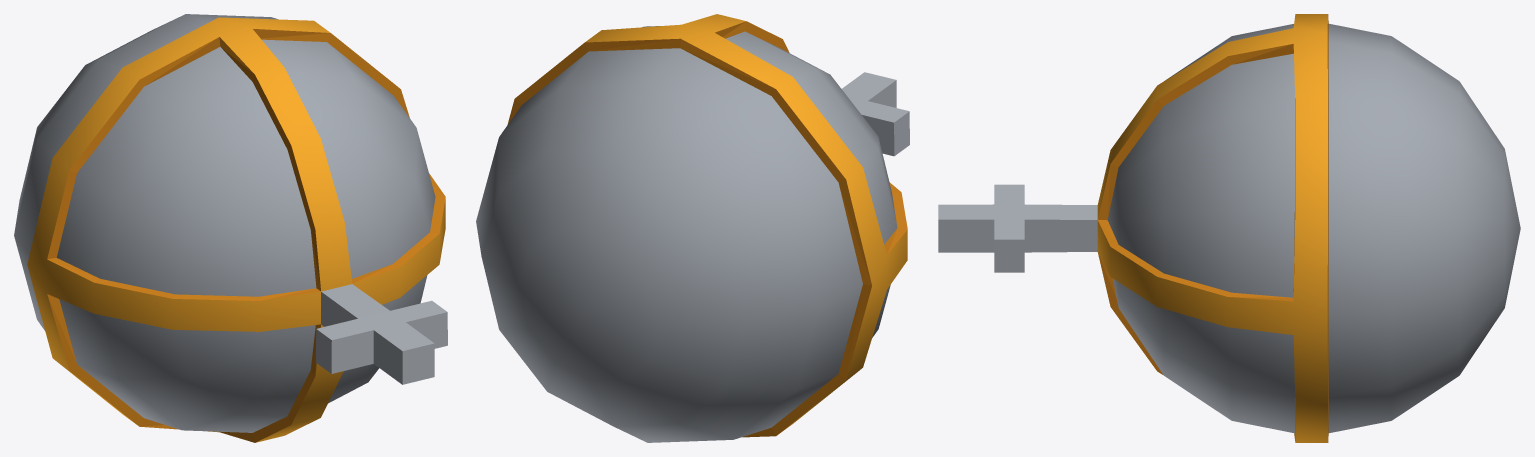
File: grenade.glb
3 views of the same model, side by side, from view 1: azimuth 30°, elevation 25°; view 2: azimuth 150°, elevation 25°; view 3: azimuth 270°, elevation 25° (orthographic). The views are drawn at different scales.
Visible parts, largest first — view 1: Hull, WrapBand, WrapEdge, Cross; view 2: Hull, WrapBand, WrapEdge, Cross; view 3: Hull, WrapBand, Cross, WrapEdge.
Part boxes in pixels (x1,y1,x2,y2): Hull: (14, 14, 435, 432); WrapBand: (27, 17, 445, 442); WrapEdge: (47, 29, 445, 442); Cross: (316, 284, 447, 384); Hull: (476, 26, 897, 442); WrapBand: (585, 14, 907, 434); WrapEdge: (507, 21, 907, 437); Cross: (842, 72, 909, 156); Hull: (1107, 23, 1520, 433); WrapBand: (1097, 14, 1327, 442); Cross: (938, 184, 1097, 272); WrapEdge: (1097, 14, 1328, 442).
Bounding box in the file's own units: 0.5688 × 0.5688 × 0.7694.
